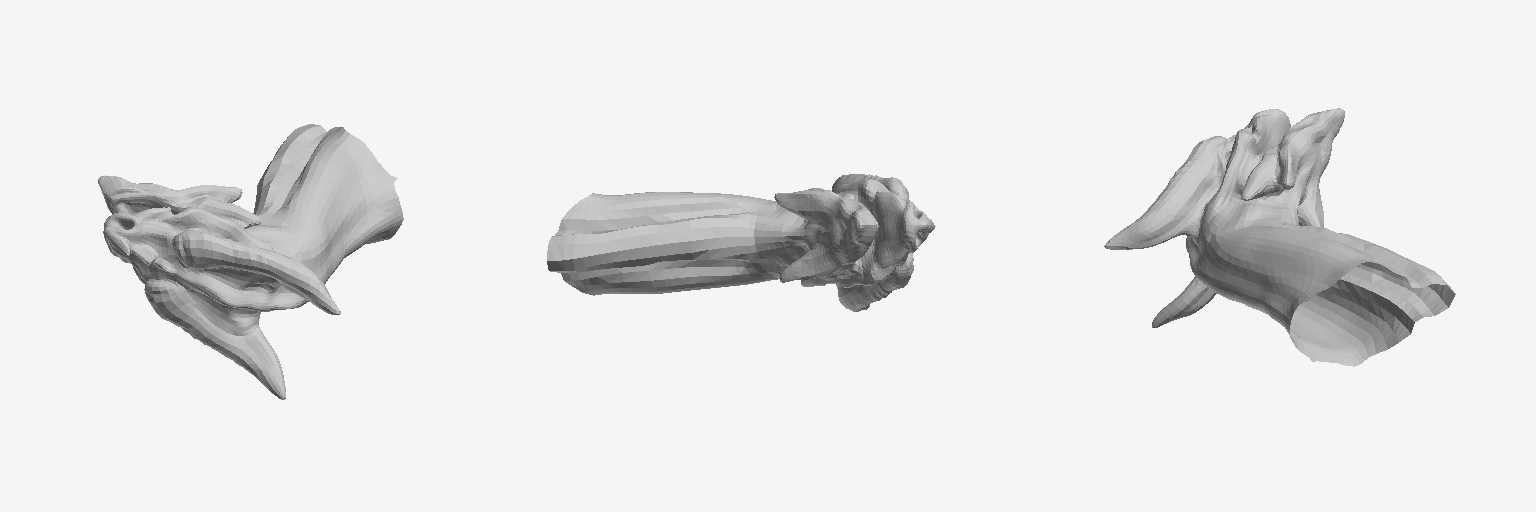
The model's file is HEAD5.obj.
The picture shows the model from 3 angles: view 1: azimuth 30°, elevation 25°; view 2: azimuth 150°, elevation 25°; view 3: azimuth 270°, elevation 25°; orthographic projection.
Visible parts, largest first — view 1: HEAD5; view 2: HEAD5; view 3: HEAD5.
Boxes of the visible parts, x1,y1,x2,y2 form: HEAD5: [98, 124, 403, 399]; HEAD5: [547, 174, 935, 311]; HEAD5: [1104, 108, 1455, 366].
Bounding box in the file's own units: 2.74 × 1.5 × 2.68.